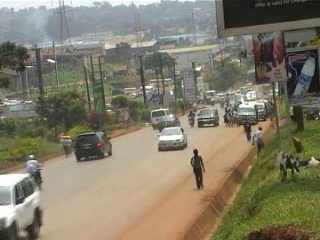Car: (0, 170, 46, 239), (72, 128, 115, 163), (157, 125, 189, 151), (195, 105, 220, 129), (155, 112, 182, 134)
Motorcycle: (22, 153, 46, 194), (186, 107, 196, 129)
